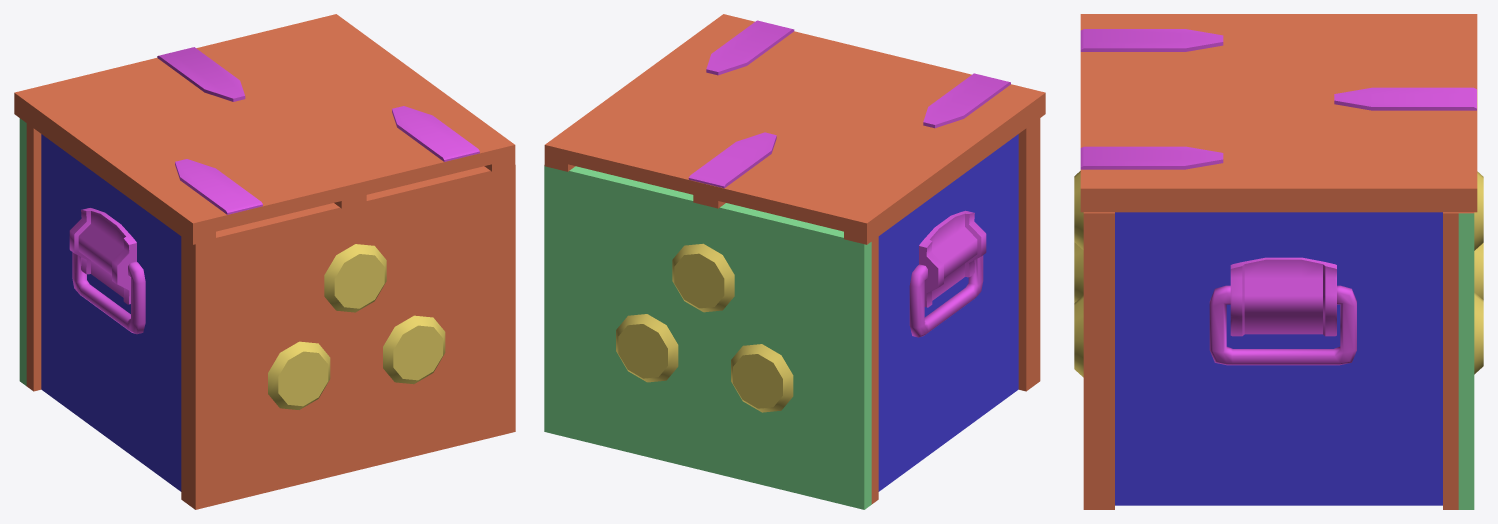
Rendered from Caja 3.fbx.
3 renders of one model, left to right at view 1: azimuth 30°, elevation 25°; view 2: azimuth 150°, elevation 25°; view 3: azimuth 270°, elevation 25°, orthographic. The views are drawn at different scales.
Visible parts, largest first — view 1: Cube.043, Cube.044, Cube.047, Cylinder.068, Cylinder.070, Cylinder.069, Cube.049, Cube.050, Plane.001, Cube.048; view 2: Cube.043, Cube.044, Cube.047, Cylinder.055, Cylinder.049, Cylinder.054, Plane.001, Cube.048, Cube.050, Cube.049; view 3: Cube.043, Cube.044, Cube.046, Plane, Cube.049, Cube.048, Cube.050, Cylinder.054, Cylinder.070, Cylinder.049, Cylinder.068, Cylinder.069 (+1 smaller).
Part boxes in pixels (<box>): Cube.043: <box>19,118,515,509</box>; Cube.044: <box>14,14,515,244</box>; Cube.047: <box>69,208,136,304</box>; Cylinder.068: <box>324,244,386,312</box>; Cylinder.070: <box>383,315,445,384</box>; Cylinder.069: <box>268,341,330,409</box>; Cube.049: <box>392,106,479,161</box>; Cube.050: <box>175,159,262,214</box>; Plane.001: <box>72,252,145,334</box>; Cube.048: <box>157,47,245,101</box>; Cube.043: <box>544,118,1040,509</box>; Cube.044: <box>544,14,1045,244</box>; Cube.047: <box>919,210,986,307</box>; Cylinder.055: <box>731,344,793,412</box>; Cylinder.049: <box>672,243,734,312</box>; Cylinder.054: <box>616,314,678,382</box>; Plane.001: <box>909,255,983,337</box>; Cube.048: <box>688,132,776,188</box>; Cube.050: <box>923,73,1010,128</box>; Cube.049: <box>706,20,794,75</box>; Cube.043: <box>1083,212,1474,509</box>; Cube.044: <box>1080,14,1477,212</box>; Cube.046: <box>1230,257,1336,336</box>; Plane: <box>1209,285,1356,365</box>; Cube.049: <box>1080,146,1223,169</box>; Cube.048: <box>1334,87,1476,110</box>; Cube.050: <box>1080,29,1223,51</box>; Cylinder.054: <box>1474,292,1483,374</box>; Cylinder.070: <box>1074,295,1083,377</box>; Cylinder.049: <box>1474,171,1483,250</box>; Cylinder.068: <box>1074,171,1083,249</box>; Cylinder.069: <box>1074,242,1083,302</box>.
Size of the model in its own units: 151 by 122 by 140.
